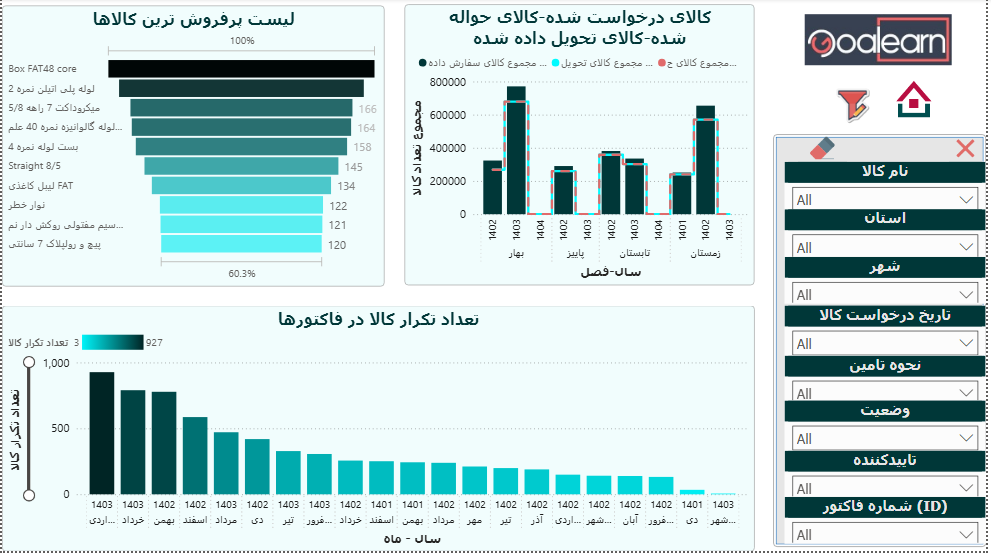

The page's visual inventory and layout, read from the dashboard file:
{"tool":"powerbi","page":{"name":"Product Status","canvas":[1280,720],"ordinal":2},"visuals":[{"type":"shape","box":[1003.3,177.3,276.4,536.5],"z":0,"group":"g1"},{"type":"image","box":[1011.4,16.3,256.9,76.4],"z":0},{"type":"slicer","title":"نام کالا","fields":{"Values":["درخواست کالا از انبار.نام کالا"]},"box":[1017.8,212.4,262,63.5],"z":1000,"group":"g1"},{"type":"image","box":[1157.7,94.3,56.9,74.8],"z":1000},{"type":"lineStackedColumnComboChart","title":"کالای درخواست شده-کالای حواله شده-کالای تحویل داده شده","fields":{"Category":["Calendar.jseasonT","Calendar.jyear"],"Y":["Sum(درخواست کالا از انبار.تعداد کالا)"],"Y2":["MeasureTable.Count-Tahvil-Based-Kala","MeasureTable.Count-Havale-Based-Kala"]},"box":[523.6,8.1,455.3,365.9],"z":2000},{"type":"slicer","title":"استان","fields":{"Values":["درخواست کالا از انبار.استان"]},"box":[1017.8,274.3,262,66.8],"z":2000,"group":"g1"},{"type":"funnel","title":"لیست پرفروش ترین کالاها","fields":{"Y":["CountNonNull(Total-GR-درخواست کالا.کد کالا)"],"Category":["Total-GR-درخواست کالا.نام کالا"]},"box":[0,9.8,497.6,365.9],"z":3000},{"type":"slicer","title":"تاریخ درخواست کالا","fields":{"Values":["Calendar.jalali2"]},"box":[1017.8,399.6,262,65.2],"z":3000,"group":"g1"},{"type":"slicer","title":"شهر","fields":{"Values":["درخواست کالا از انبار.شهر"]},"box":[1017.8,336.1,262,60.2],"z":4000,"group":"g1"},{"type":"columnChart","title":"تعداد تکرار کالا در فاکتورها","fields":{"Y":["CountNonNull(Total-GR-درخواست کالا.کد کالا)"],"Category":["Calendar.jmonthT","Calendar.jyear"]},"box":[0,400,978.9,320.3],"z":4000},{"type":"group","id":"g1","title":"Group 2","box":[1003.3,170.7,276.4,543.1],"z":5000},{"type":"slicer","title":"نحوه تامین","fields":{"Values":["درخواست کالا از انبار.نحوه تامین"]},"box":[1017.8,464.8,262,58.5],"z":5000,"group":"g1"},{"type":"image","box":[1069.9,108.9,73.2,60.2],"z":6000},{"type":"slicer","title":"وضعیت","fields":{"Values":["درخواست کالا از انبار.وضعیت"]},"box":[1017.8,523.3,262,66.8],"z":6000,"group":"g1"},{"type":"slicer","title":"تاییدکننده","fields":{"Values":["درخواست کالا از انبار.تایید کننده میانی اول"]},"box":[1017.8,588.5,262,60.2],"z":7000,"group":"g1"},{"type":"slicer","title":"شماره فاکتور (ID)","fields":{"Values":["Total-GR-درخواست کالا.شماره درخواست"]},"box":[1017.8,648.6,262,60.2],"z":8000,"group":"g1"},{"type":"image","box":[1030.3,170.7,72,49.2],"z":9000,"group":"g1"},{"type":"image","box":[1227.2,173,51.8,46.8],"z":10000,"group":"g1"}]}

Visuals, with their boxes in screenshot pixels (x1, y1, x2, y2), scaled from the page's 1280x720 canvas onto the 991x559 screenshot:
shape: (777,138,990,554)
image: (783,13,982,72)
"نام کالا" slicer: (788,165,990,214)
image: (896,73,940,131)
"کالای درخواست شده-کالای حواله شده-کالای تحویل داده شده" lineStackedColumnComboChart: (405,6,758,290)
"استان" slicer: (788,213,990,265)
"لیست پرفروش ترین کالاها" funnel: (0,8,385,292)
"تاریخ درخواست کالا" slicer: (788,310,990,361)
"شهر" slicer: (788,261,990,308)
"تعداد تکرار کالا در فاکتورها" columnChart: (0,311,758,558)
"Group 2" group: (777,133,990,554)
"نحوه تامین" slicer: (788,361,990,406)
image: (828,85,885,131)
"وضعیت" slicer: (788,406,990,458)
"تاییدکننده" slicer: (788,457,990,504)
"شماره فاکتور (ID)" slicer: (788,504,990,550)
image: (798,133,853,171)
image: (950,134,990,171)
